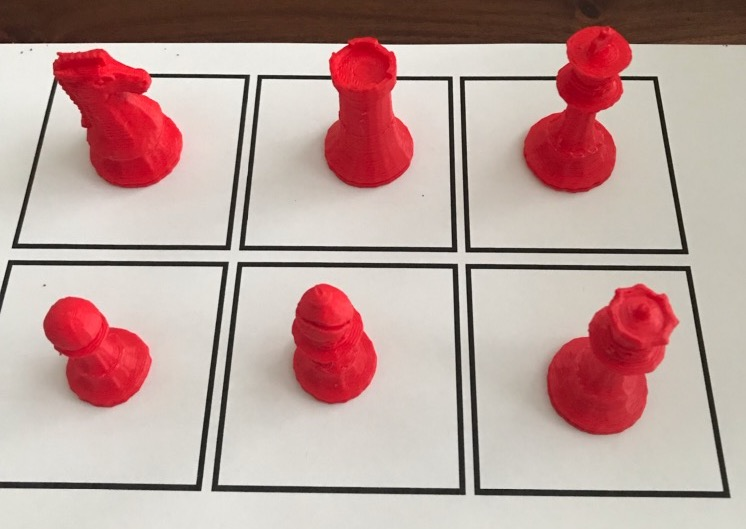Red Bishop: (280, 282, 382, 413)
Red Castle: (309, 33, 425, 198)
Red King: (506, 20, 651, 203)
Red Knight: (45, 38, 191, 200)
Red Pawn: (31, 286, 159, 416)
Red Queen: (542, 282, 681, 447)
